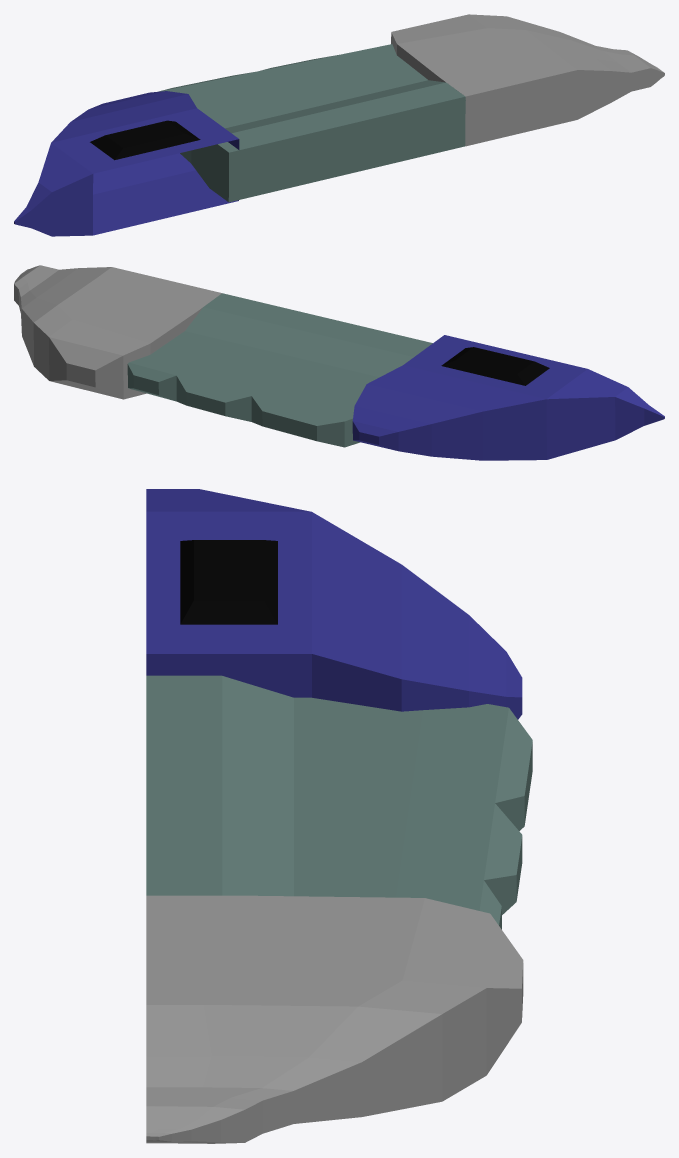
Rendered from Trilobite2.glb.
3 renders of one model, top to bottom at view 1: azimuth 30°, elevation 25°; view 2: azimuth 150°, elevation 25°; view 3: azimuth 270°, elevation 25°, orthographic. The views are drawn at different scales.
Parts seen in each view (by area): view 1: Cube; view 2: Cube; view 3: Cube.
Part boxes in pixels (left/top/right/bottom): Cube: left=14, top=14, right=664, bottom=236; Cube: left=14, top=265, right=664, bottom=460; Cube: left=146, top=489, right=532, bottom=1143.
Size of the model in its own units: 1.04 by 0.108 by 0.2731.
